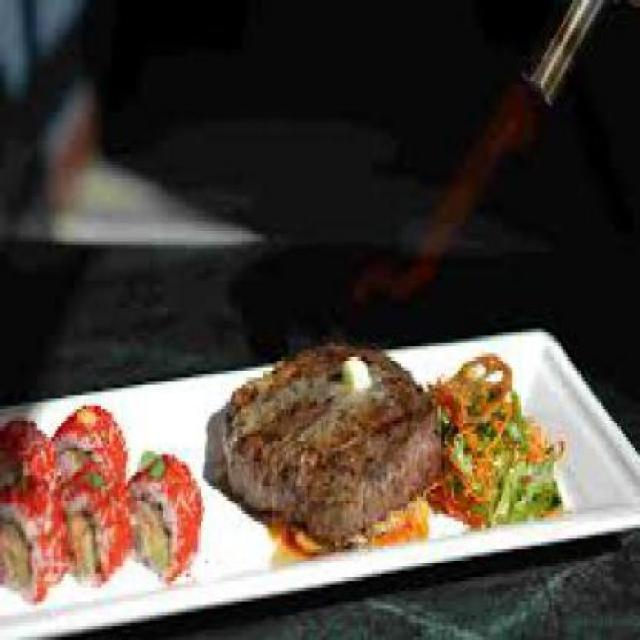steak: (207, 349, 419, 511)
